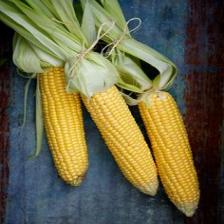yellow: (82, 86, 159, 196), (139, 92, 200, 217), (39, 67, 88, 186)
